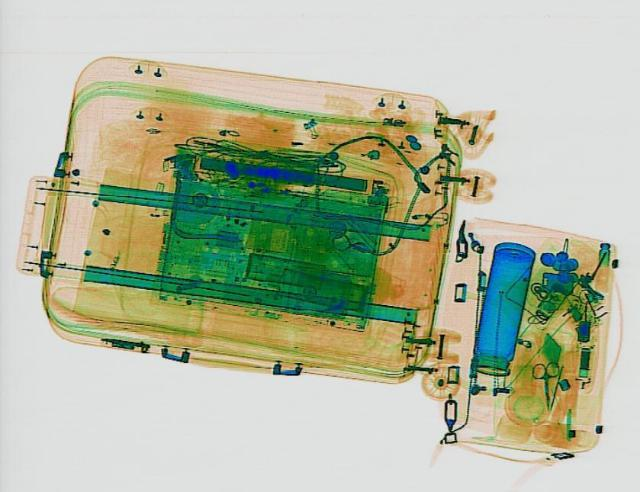Scissors: (529, 359, 563, 408)
